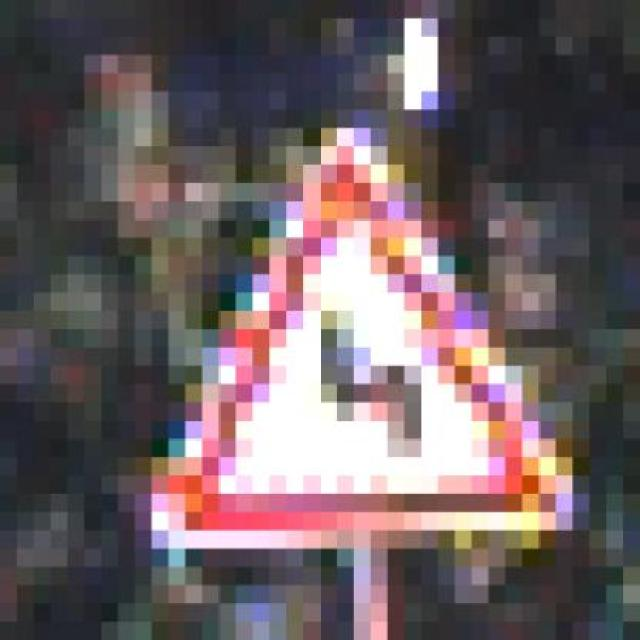Left Zig Zag Traffic: (118, 110, 590, 548)
